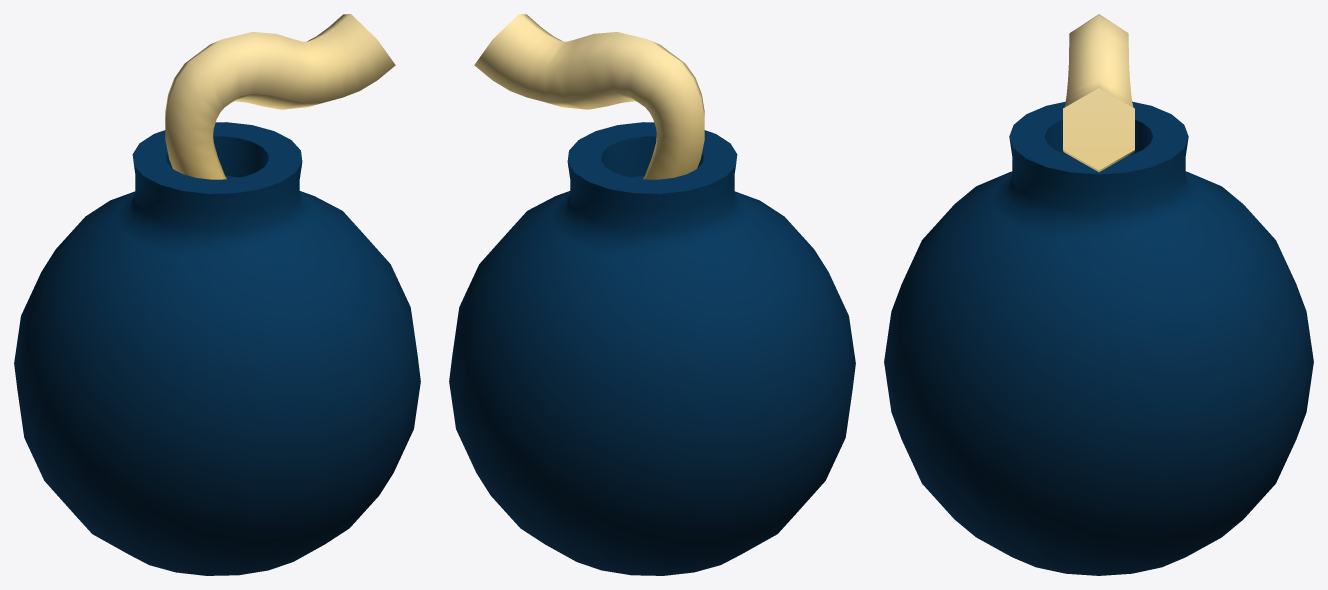
Rendered from Collectable_Bomb_01.fbx.
3 views of the same model, side by side, from view 1: azimuth 30°, elevation 25°; view 2: azimuth 150°, elevation 25°; view 3: azimuth 270°, elevation 25° (orthographic). The views are drawn at different scales.
Parts seen in each view (by area): view 1: Collectable_Bomb_01; view 2: Collectable_Bomb_01; view 3: Collectable_Bomb_01.
Part boxes in pixels (x1,y1,x2,y2): Collectable_Bomb_01: (14, 14, 420, 575); Collectable_Bomb_01: (449, 14, 855, 575); Collectable_Bomb_01: (884, 14, 1313, 575).
Size of the model in its own units: 67.37 by 94.03 by 67.37.
